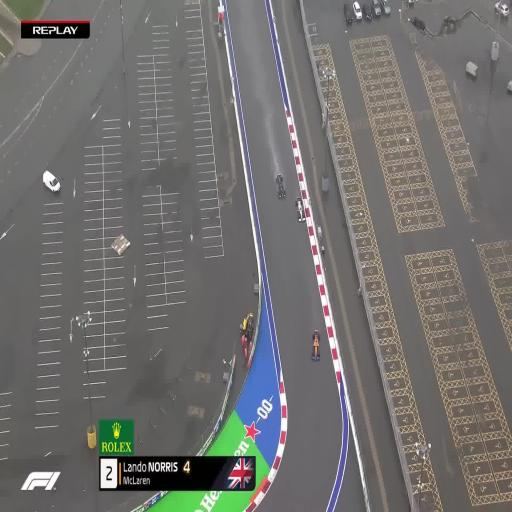f1_car: (311, 330, 319, 361), (295, 197, 305, 221), (276, 174, 285, 198)
